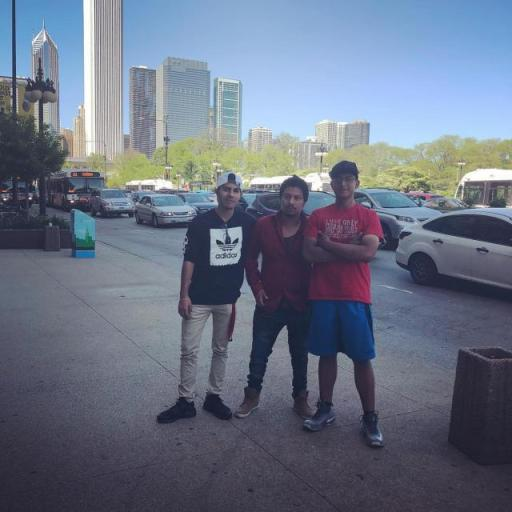Adidas: (210, 226, 242, 263)
